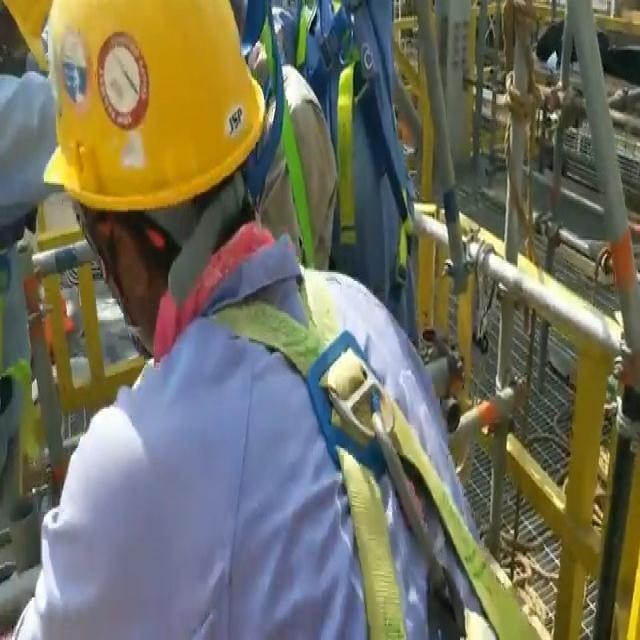Person: (24, 0, 471, 640)
